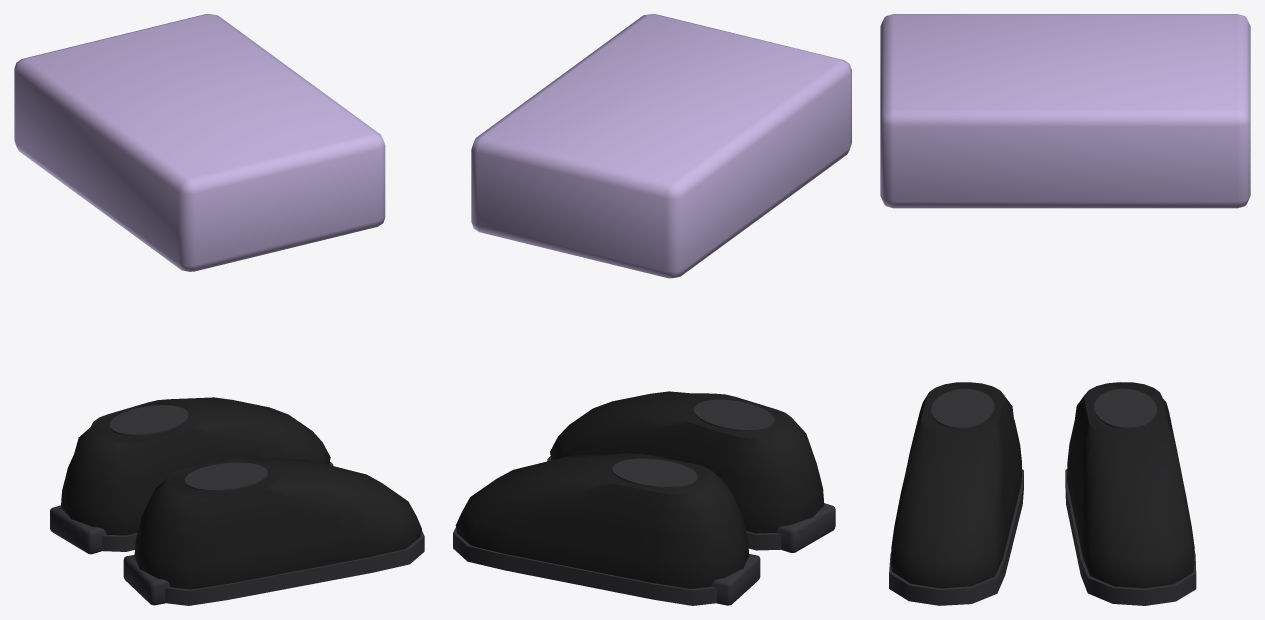
The model's file is recqjxbtmNW5IRtHb.glb.
3 views of the same model, side by side, from view 1: azimuth 30°, elevation 25°; view 2: azimuth 150°, elevation 25°; view 3: azimuth 270°, elevation 25° (orthographic). The views are drawn at different scales.
Visible parts, largest first — view 1: objets_etagere_chambre_Corps; view 2: objets_etagere_chambre_Corps; view 3: objets_etagere_chambre_Corps.
Boxes of the visible parts, <box> form: objets_etagere_chambre_Corps: <box>14,14,424,605</box>; objets_etagere_chambre_Corps: <box>453,14,851,605</box>; objets_etagere_chambre_Corps: <box>880,14,1250,605</box>.
Size of the model in its own units: 0.3012 by 0.47 by 0.34.
